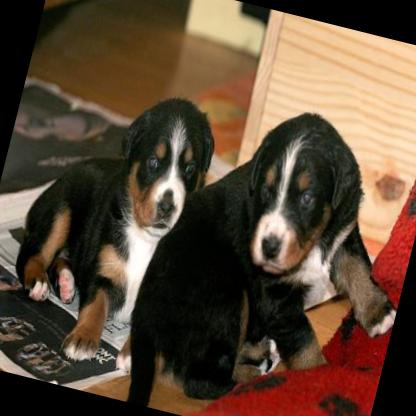Appenzeller: (109, 79, 416, 416), (0, 66, 223, 379)
